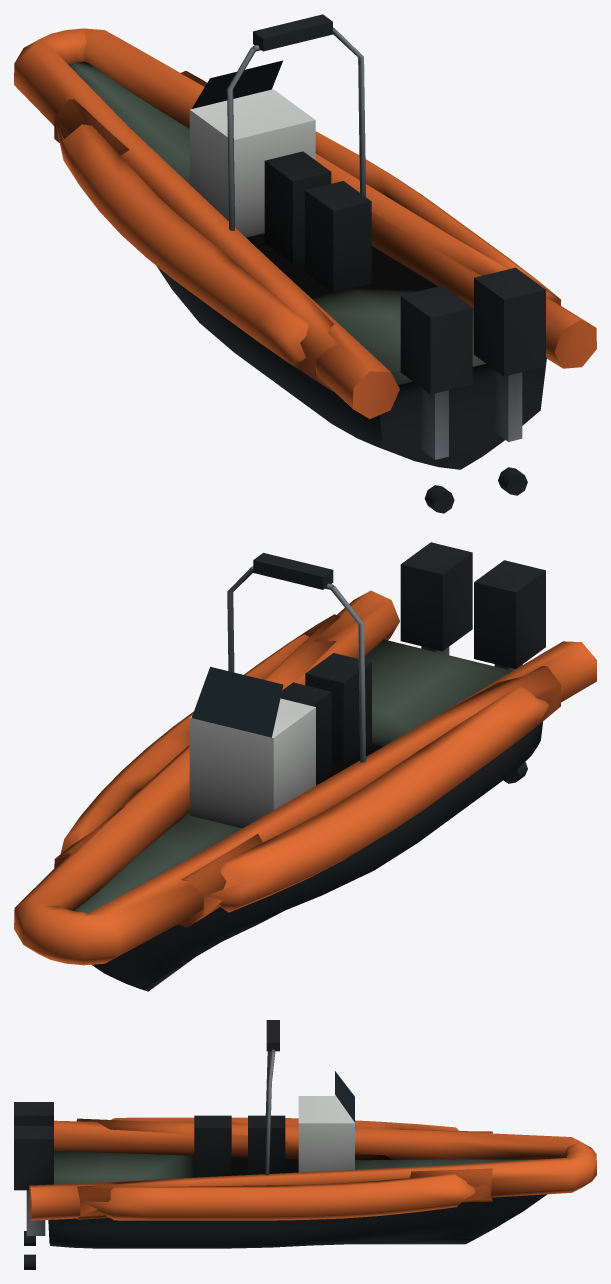
File: rib_LOD1.glb
3 views of the same model, one above another, from view 1: azimuth 30°, elevation 25°; view 2: azimuth 150°, elevation 25°; view 3: azimuth 270°, elevation 25° (orthographic). The views are drawn at different scales.
Parts seen in each view (by area): view 1: Hull, Rubber, Deck, Superstructure, Machinery, Windows; view 2: Hull, Rubber, Deck, Superstructure, Windows, Machinery; view 3: Hull, Rubber, Deck, Superstructure, Machinery, Windows.
Boxes of the visible parts, x1,y1,x2,y2 form: Hull: (14,28,596,418); Rubber: (157,14,546,513); Deck: (68,61,485,385); Superstructure: (189,89,315,237); Machinery: (227,27,522,459); Windows: (192,60,283,108); Hull: (14,590,596,965); Rubber: (91,542,545,991); Deck: (74,639,512,913); Superstructure: (189,698,315,828); Windows: (191,666,283,737); Machinery: (227,566,522,762); Hull: (29,1117,596,1220); Rubber: (14,1020,546,1269); Deck: (54,1151,545,1184); Superstructure: (298,1096,354,1172); Machinery: (26,1049,275,1235); Windows: (335,1071,354,1122).
Bounding box in the file's own units: 2.89 × 3.73 × 8.71.
